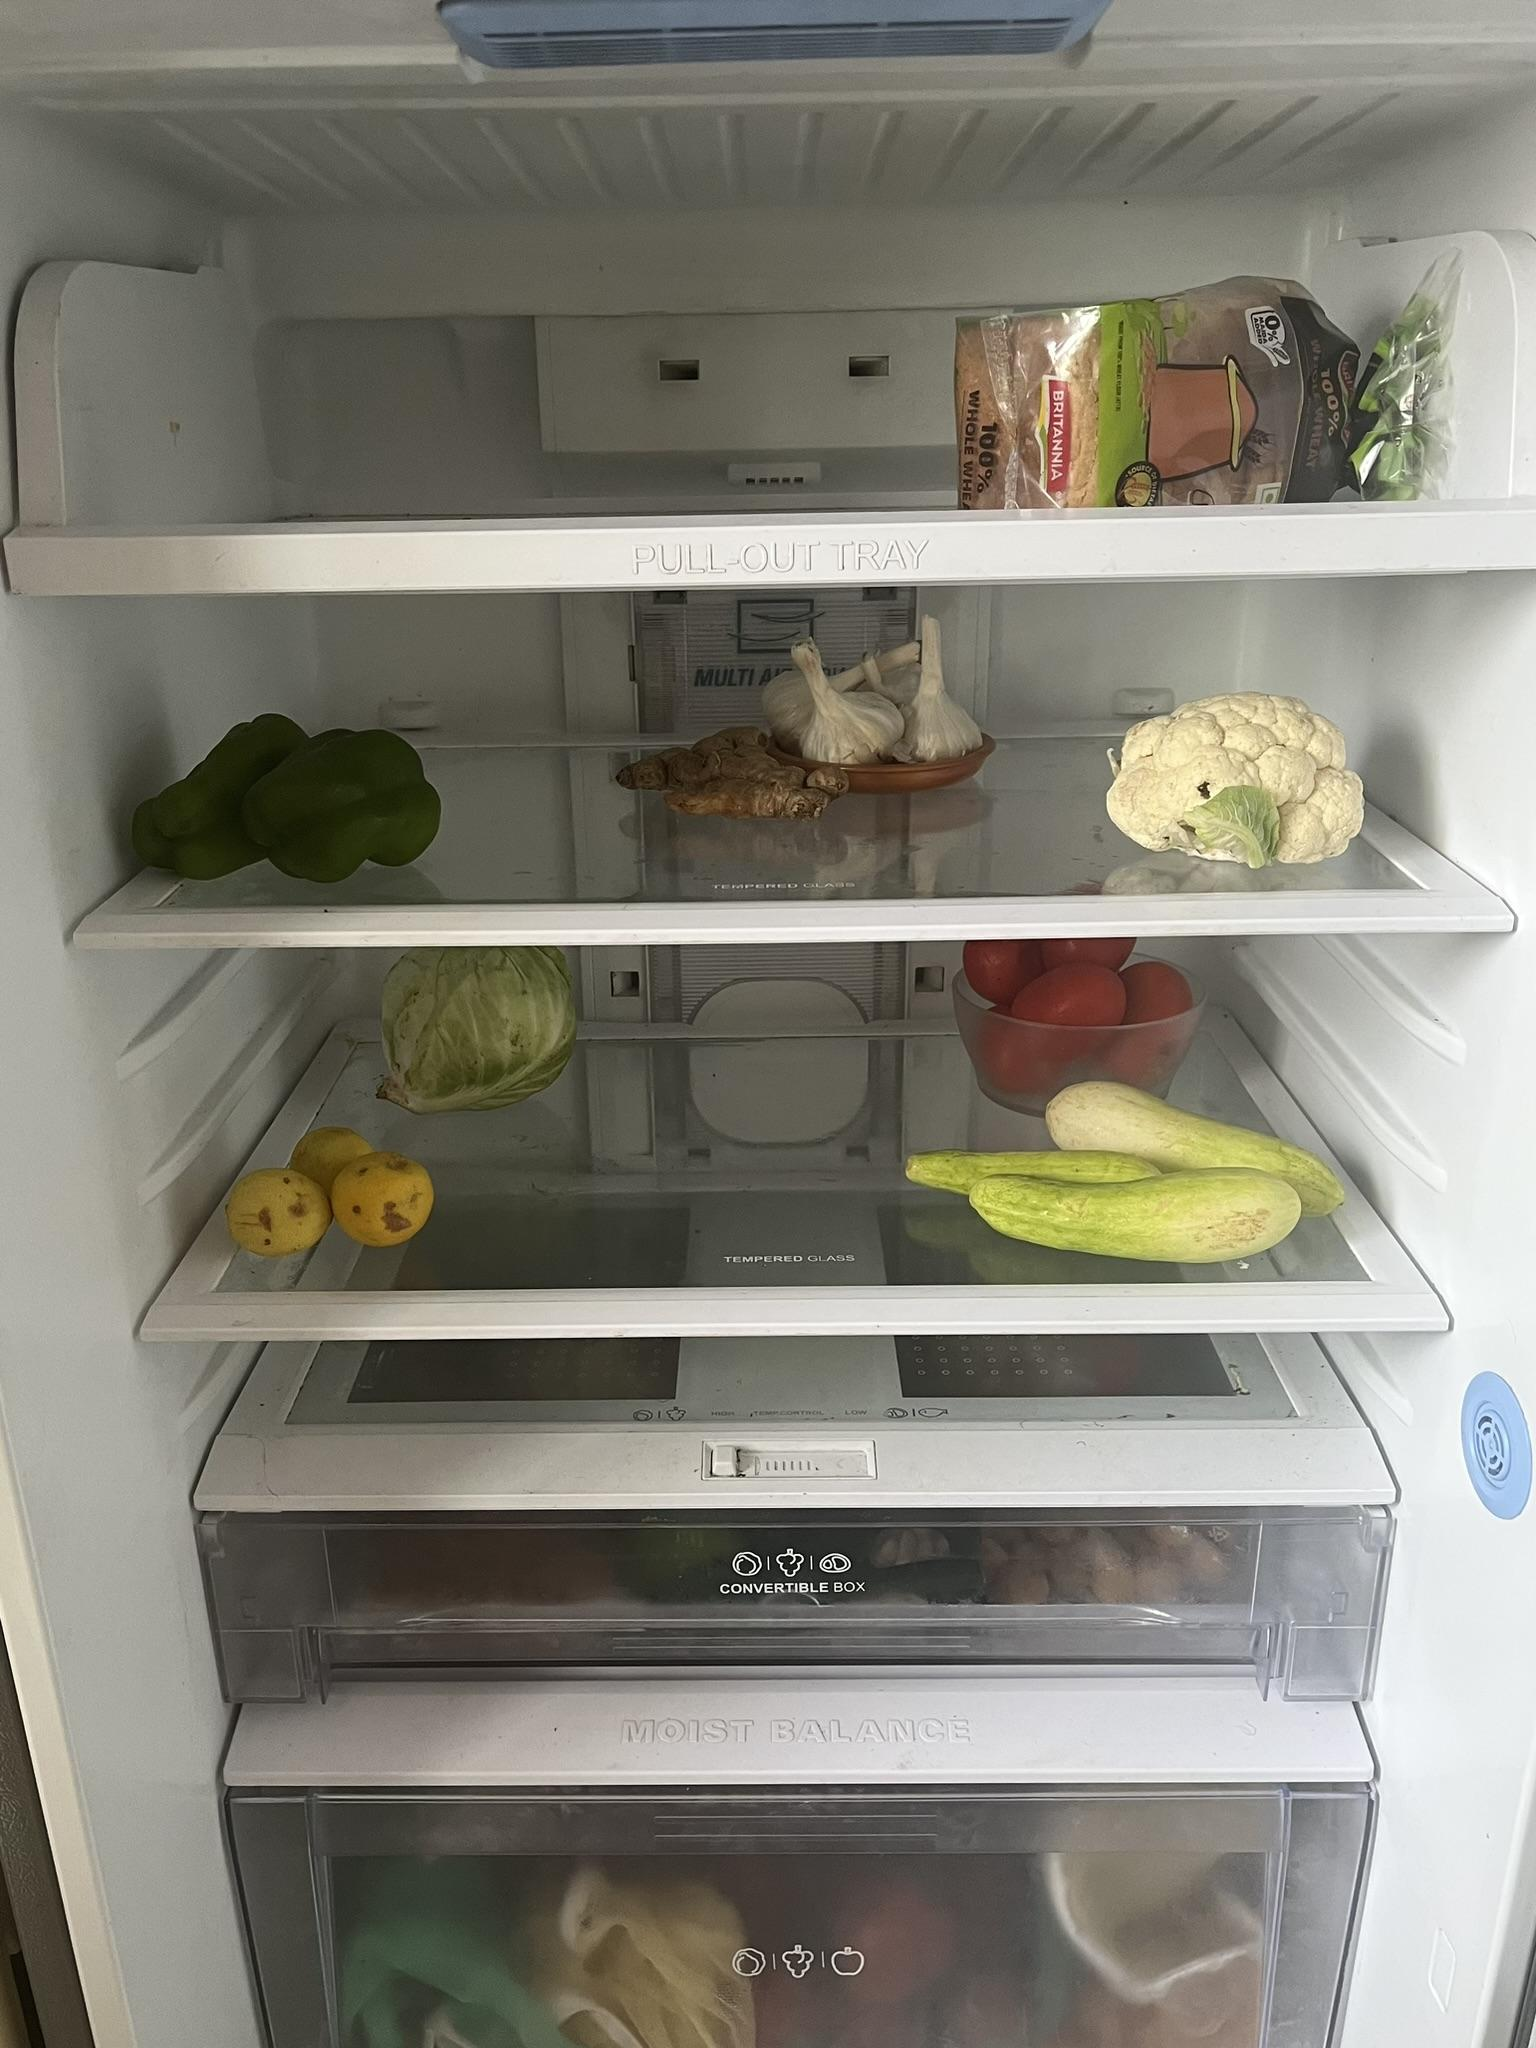bread: (941, 253, 1450, 506)
cabbage: (369, 947, 579, 1116)
capsicum: (110, 674, 481, 916)
cauliflower: (1107, 681, 1379, 880)
cucumber: (897, 1087, 1350, 1274)
garlic: (766, 616, 997, 800)
ginger: (610, 710, 863, 850)
lemon: (226, 1121, 444, 1277)
tomato: (944, 943, 1200, 1106)
